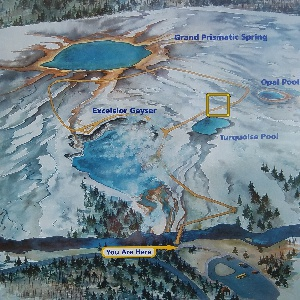square: (206, 92, 231, 118)
